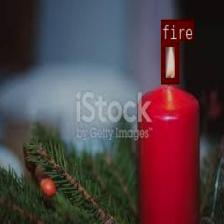fire: (160, 40, 178, 83)
